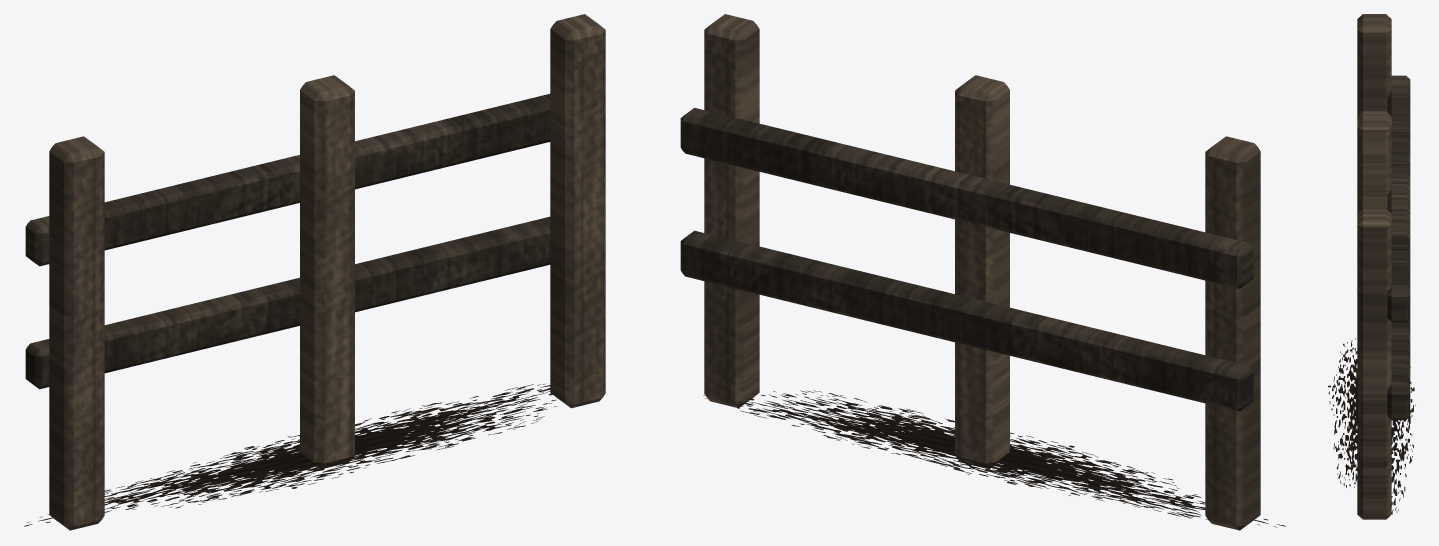
Rendered from fence.glb.
3 views of the same model, side by side, from view 1: azimuth 30°, elevation 25°; view 2: azimuth 150°, elevation 25°; view 3: azimuth 270°, elevation 25° (orthographic). The views are drawn at different scales.
Visible parts, largest first — view 1: fence; view 2: fence; view 3: fence.
Part boxes in pixels (bbox=[...]): fence: bbox=[24, 14, 605, 530]; fence: bbox=[680, 14, 1285, 530]; fence: bbox=[1328, 14, 1415, 519].
Bounding box in the file's own units: 1.56 × 0.897 × 0.273.
Materials: 2 (2 with a texture image).
